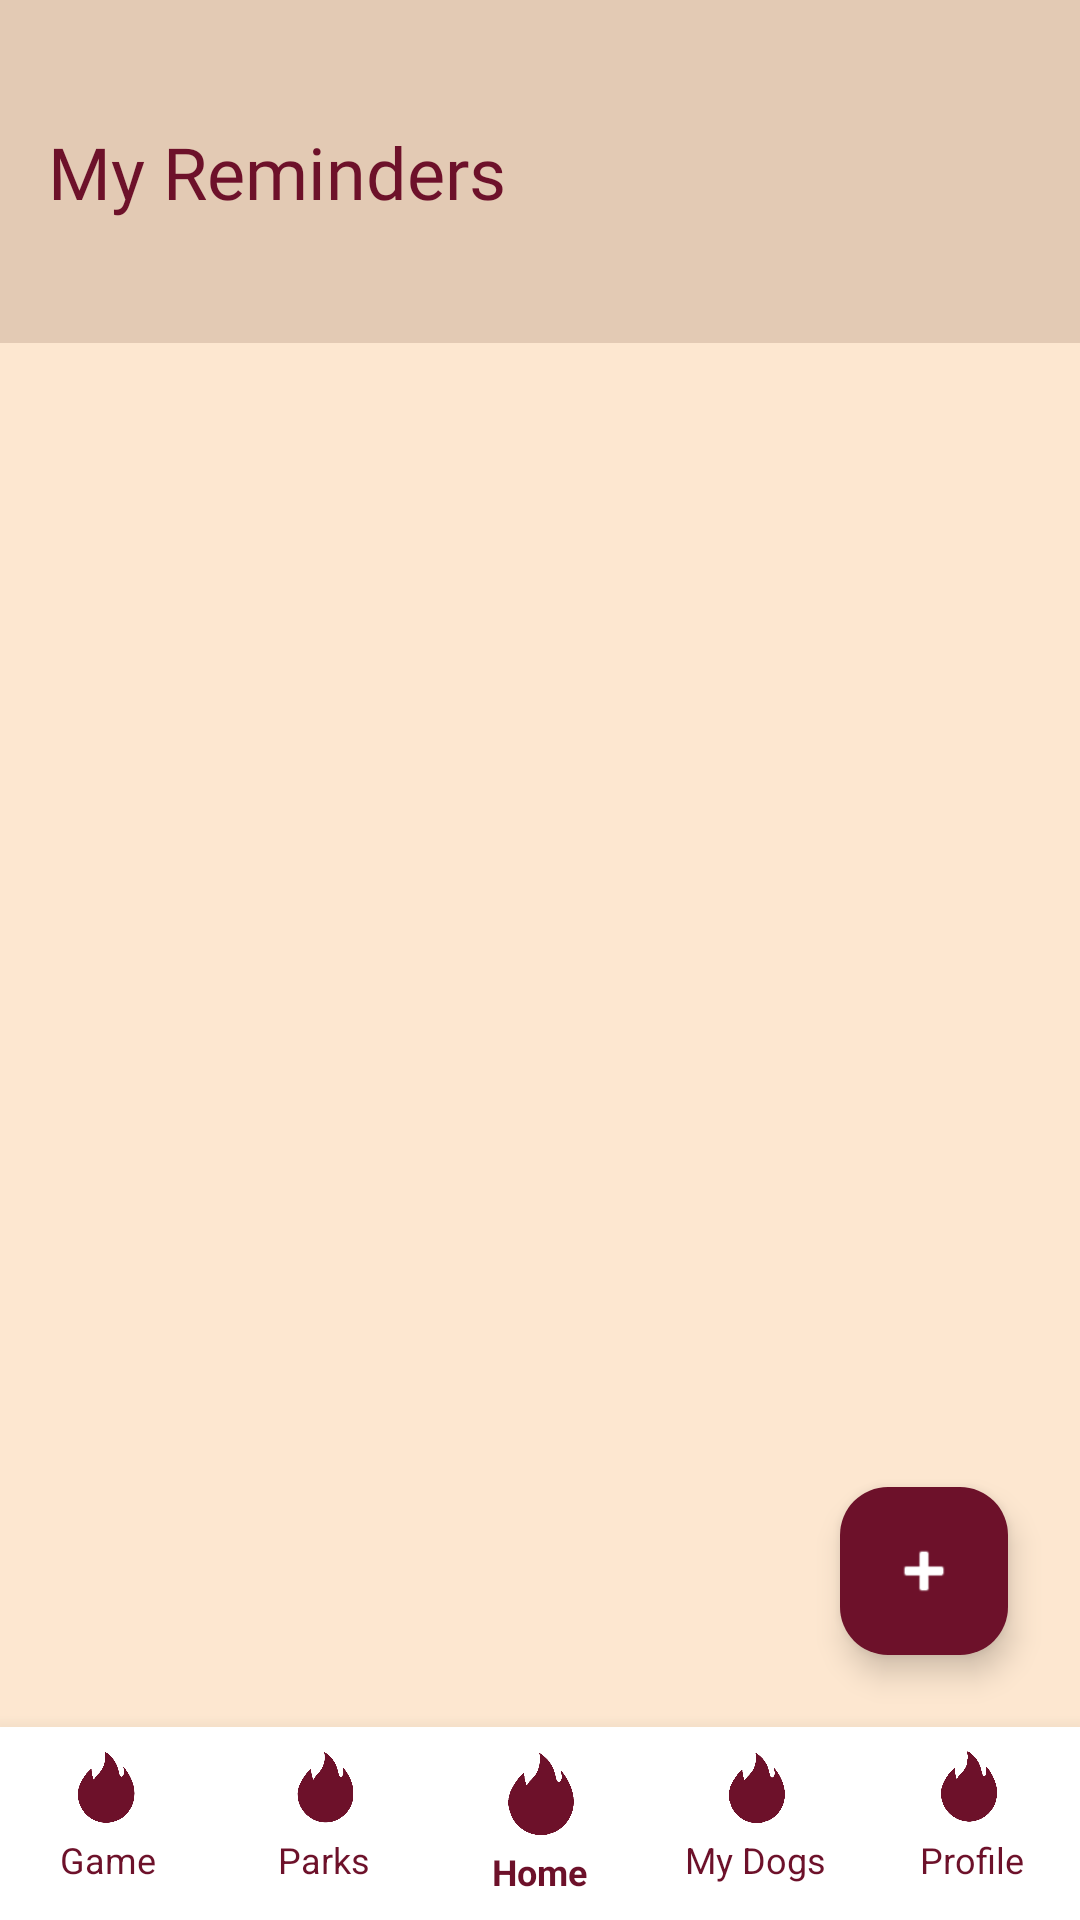

Icon bounding boxes for this 1080 × 1920 phone screenshot, format {"x1": x1, "y1": y1, "x2": x2, "y2": y2}:
Add Reminder: {"x1": 840, "y1": 1487, "x2": 1008, "y2": 1655}
